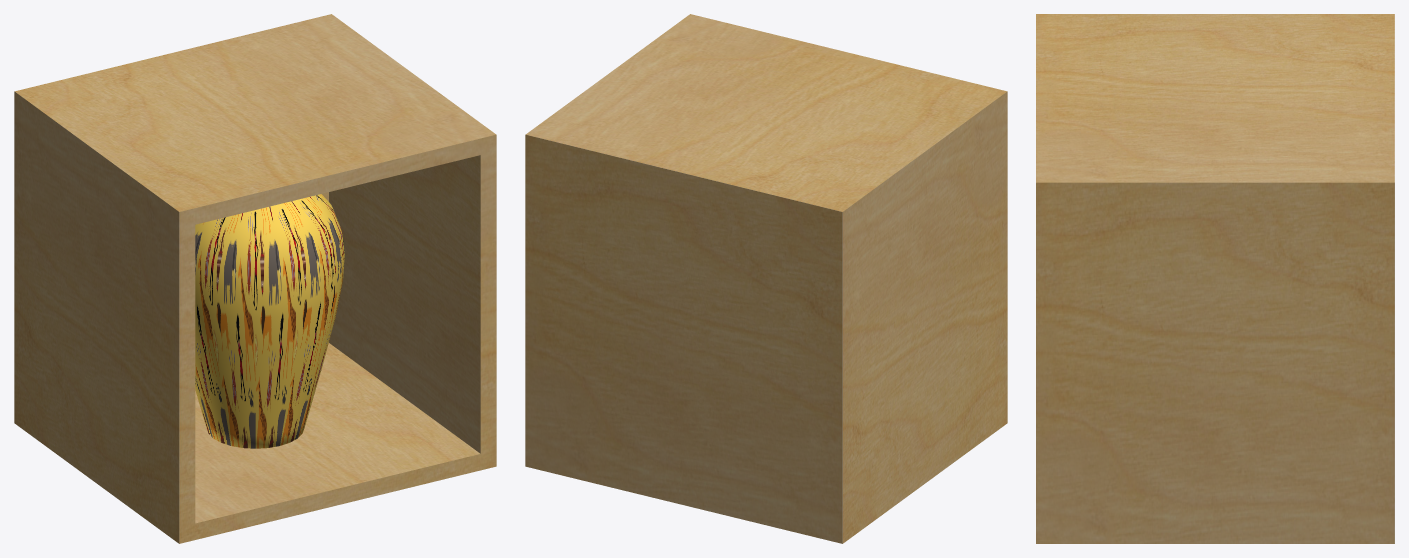
File: estanteria_cubo_jarron.glb
3 renders of one model, left to right at view 1: azimuth 30°, elevation 25°; view 2: azimuth 150°, elevation 25°; view 3: azimuth 270°, elevation 25°, orthographic. The views are drawn at different scales.
Visible parts, largest first — view 1: estanteria_cubo_jarron; view 2: estanteria_cubo_jarron; view 3: estanteria_cubo_jarron.
Part boxes in pixels (x1,y1,x2,y2): estanteria_cubo_jarron: (14, 14, 496, 543); estanteria_cubo_jarron: (525, 14, 1007, 543); estanteria_cubo_jarron: (1036, 14, 1394, 543).
Bounding box in the file's own units: 50 × 50 × 45.
3 materials, 3 textured.
